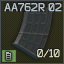Mosin 7.62x54R ProMag Archangel OPFOR 10-round magazine: (0, 0, 64, 64)
